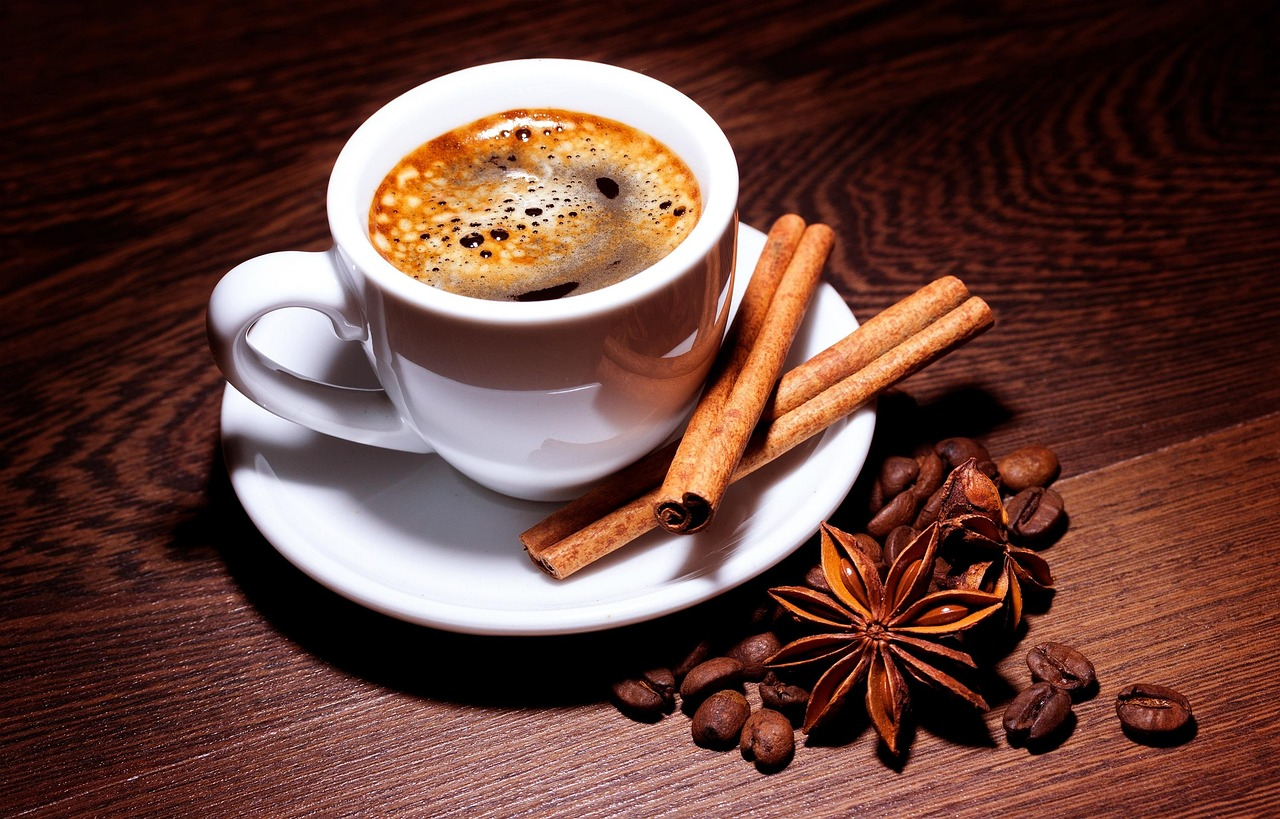mug: (193, 56, 765, 560)
